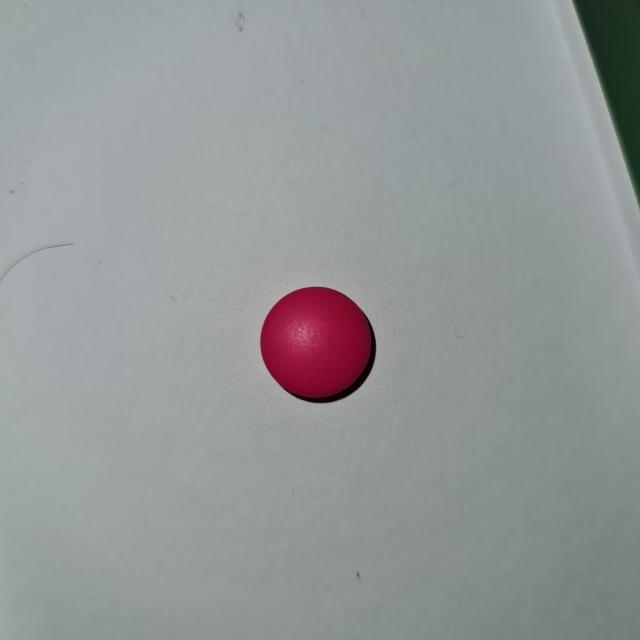pill: (258, 284, 376, 402)
